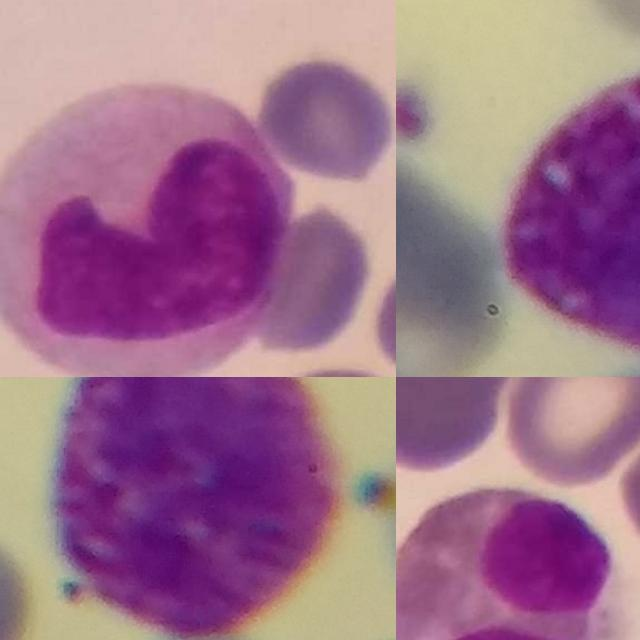Basophil: (51, 377, 337, 633), (502, 65, 640, 358)
Eosinophil: (396, 488, 638, 640)
Monocyte: (0, 76, 294, 377)
